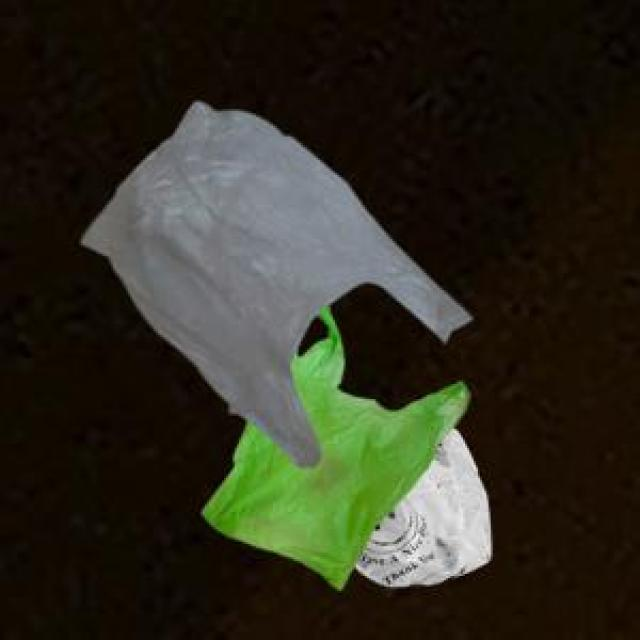plastic: (59, 62, 572, 630)
